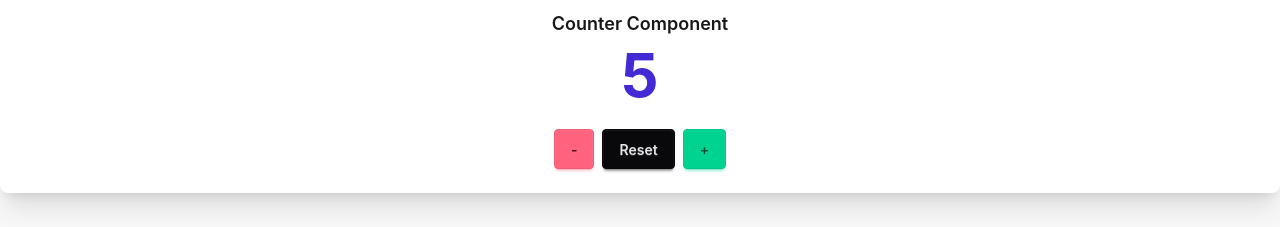
Counter Component Functionality › decrements counter when - button is clicked
Click the button "-". click: (574, 149)
box: x1=554 y1=129 x2=594 y2=169
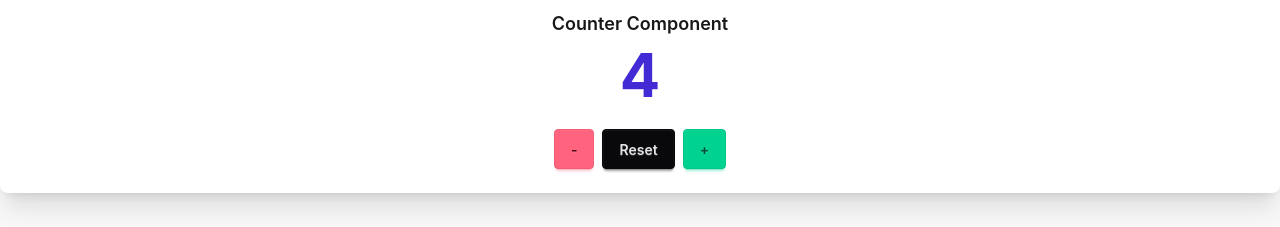
Click the button "-". click: (574, 149)
box: x1=554 y1=129 x2=594 y2=169
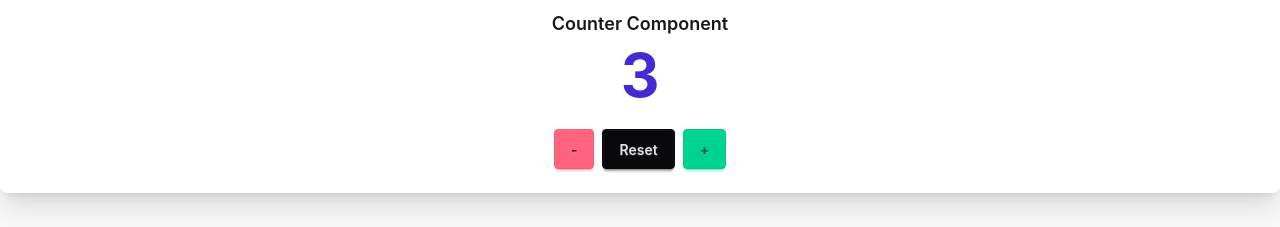
Check: the text "3" is shown, box x1=621 y1=45 x2=659 y2=105
